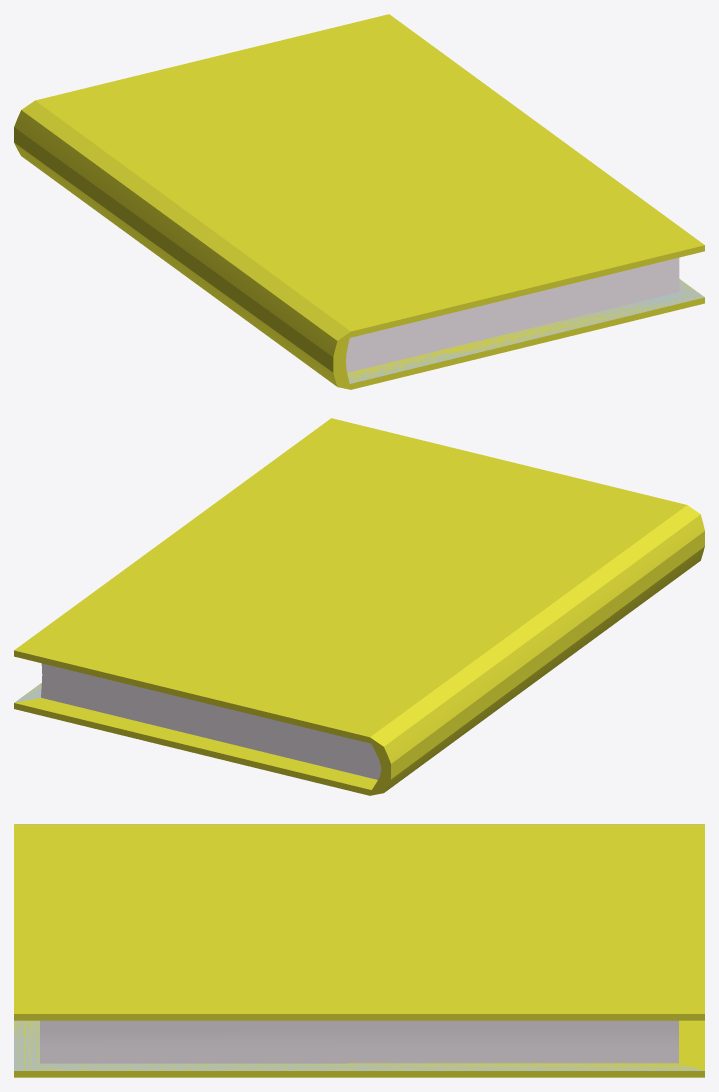
The model's file is book1.fbx.
3 renders of one model, top to bottom at view 1: azimuth 30°, elevation 25°; view 2: azimuth 150°, elevation 25°; view 3: azimuth 270°, elevation 25°, orthographic. The views are drawn at different scales.
Visible parts, largest first — view 1: Cube; view 2: Cube; view 3: Cube.
Boxes of the visible parts, x1,y1,x2,y2 form: Cube: [14, 14, 704, 389]; Cube: [14, 418, 704, 795]; Cube: [14, 824, 704, 1077].
Bounding box in the file's own units: 216 × 32.03 × 314.
